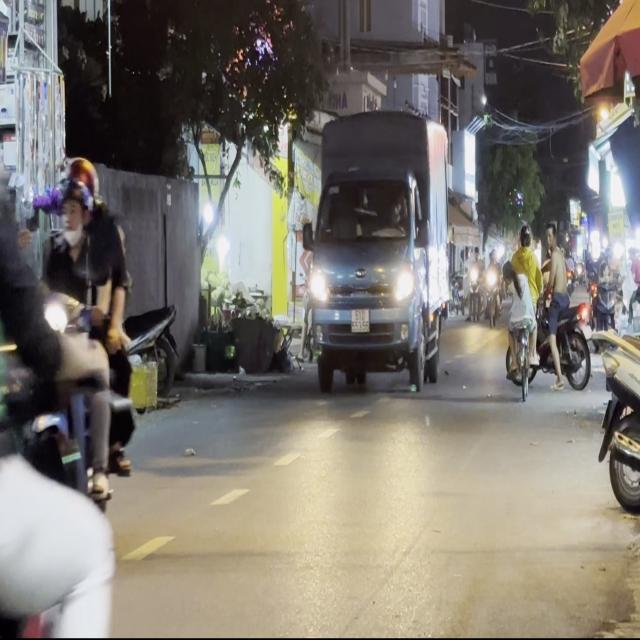licenseplate: (0, 0, 135, 635)
